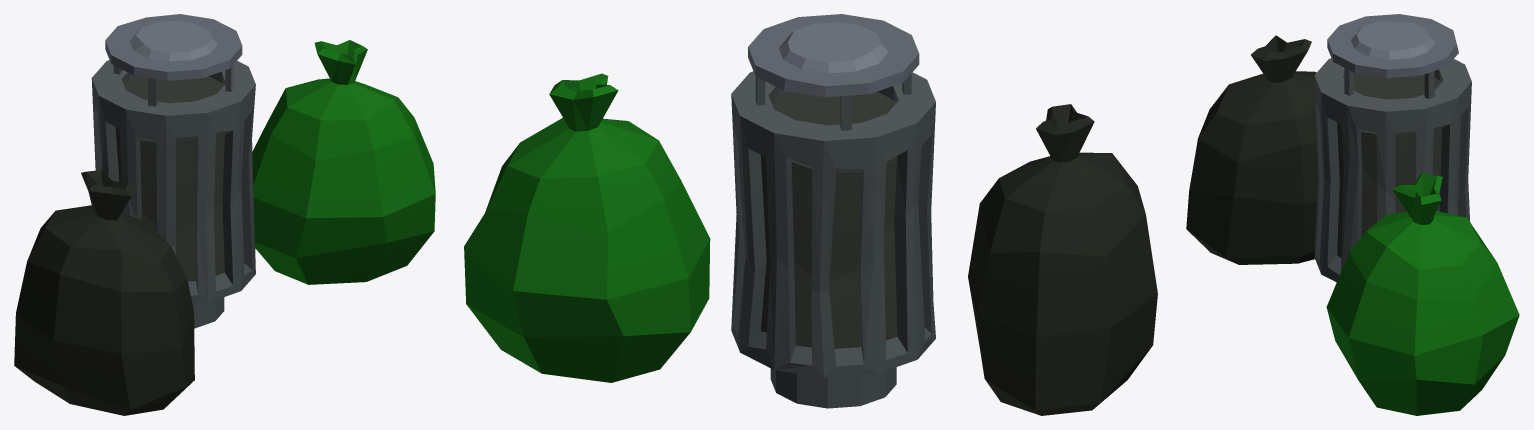
The model's file is Trash_Group.glb.
3 views of the same model, side by side, from view 1: azimuth 30°, elevation 25°; view 2: azimuth 150°, elevation 25°; view 3: azimuth 270°, elevation 25° (orthographic). The views are drawn at different scales.
Visible parts, largest first — view 1: Trash_Group; view 2: Trash_Group; view 3: Trash_Group.
Boxes of the visible parts, box(x1,y1,x2,y2) form: Trash_Group: box(14, 14, 435, 415); Trash_Group: box(464, 14, 1157, 415); Trash_Group: box(1186, 14, 1519, 415).
Size of what is drawn, in the model's own units: 2.09 by 1.25 by 1.36.
1 material, 1 textured.
